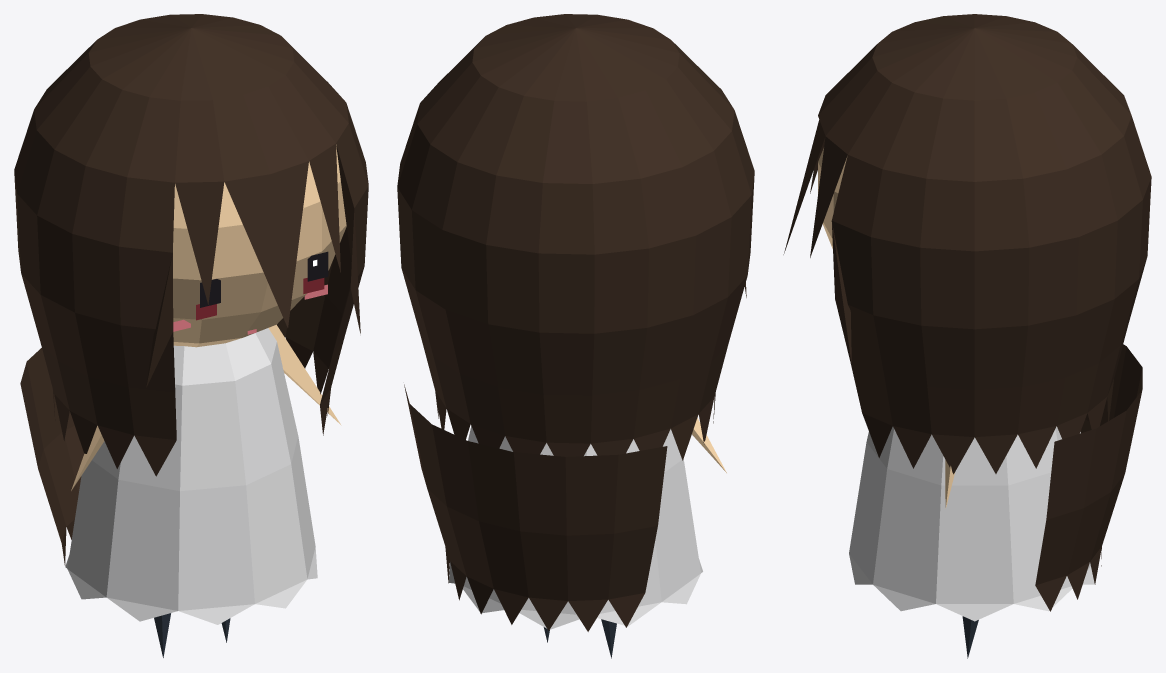
The model's file is lp_long.glb.
3 renders of one model, left to right at view 1: azimuth 30°, elevation 25°; view 2: azimuth 150°, elevation 25°; view 3: azimuth 270°, elevation 25°, orthographic.
Visible parts, largest first — view 1: hair, cloth, skin, armR, eye, eyec; view 2: hair, cloth; view 3: hair, cloth, skin.
Part boxes in pixels (x1,y1,x2,y2): hair: (14, 14, 368, 565); cloth: (65, 328, 317, 624); skin: (173, 144, 346, 347); armR: (268, 324, 341, 425); eye: (200, 251, 328, 307); eyec: (196, 278, 324, 320); hair: (397, 14, 754, 631); cloth: (448, 426, 702, 629); hair: (783, 14, 1151, 611); cloth: (849, 426, 1094, 621); skin: (818, 148, 847, 248).
Bounding box in the file's own units: 0.604 × 1.16 × 0.629.
